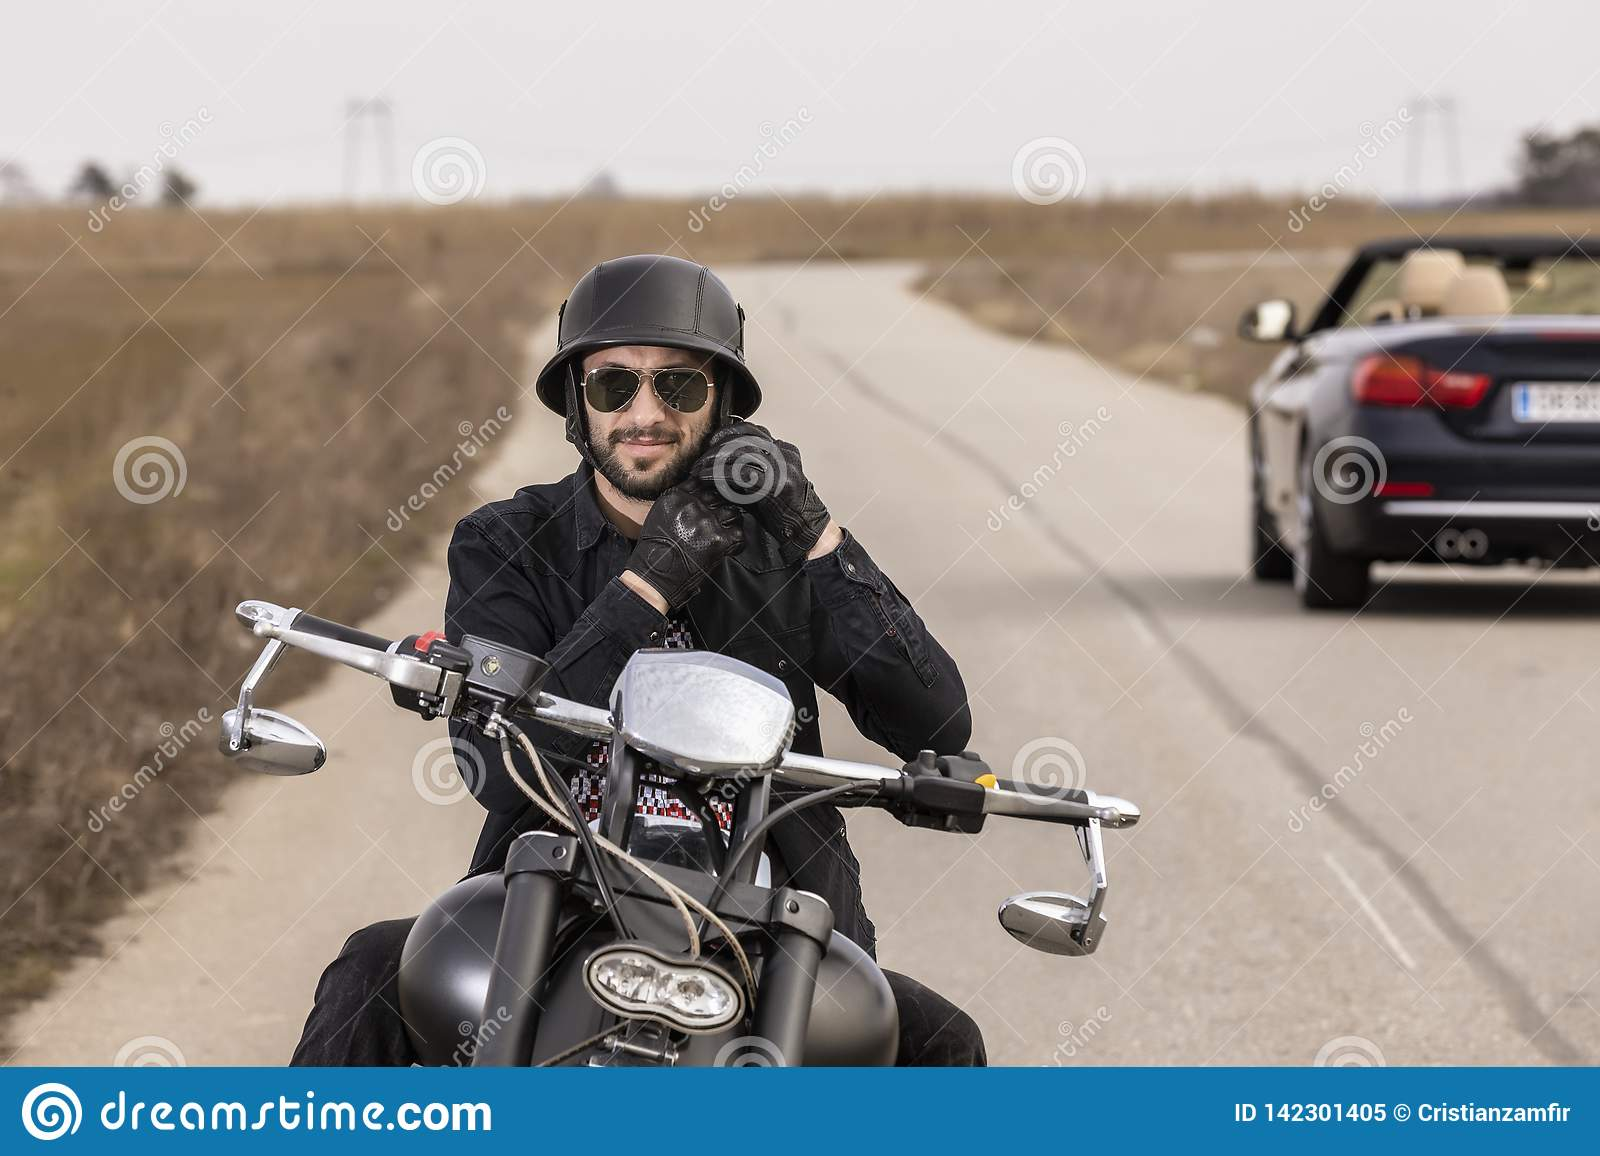helmet: (555, 245, 753, 387)
